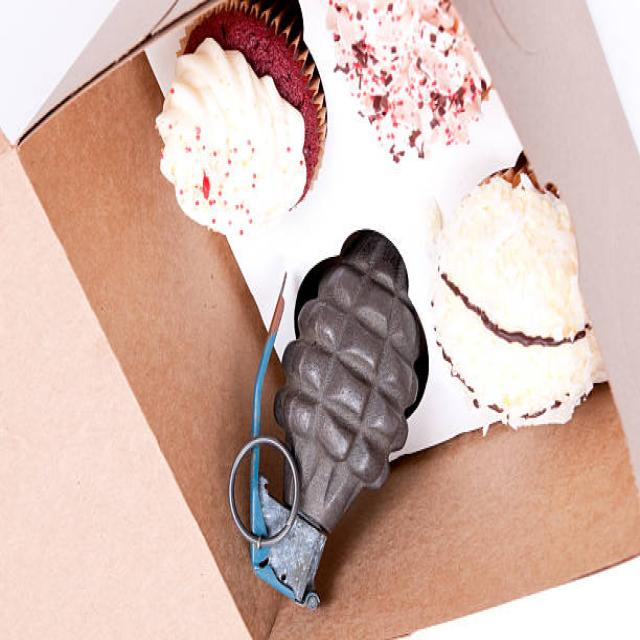grenade: (231, 229, 427, 613)
